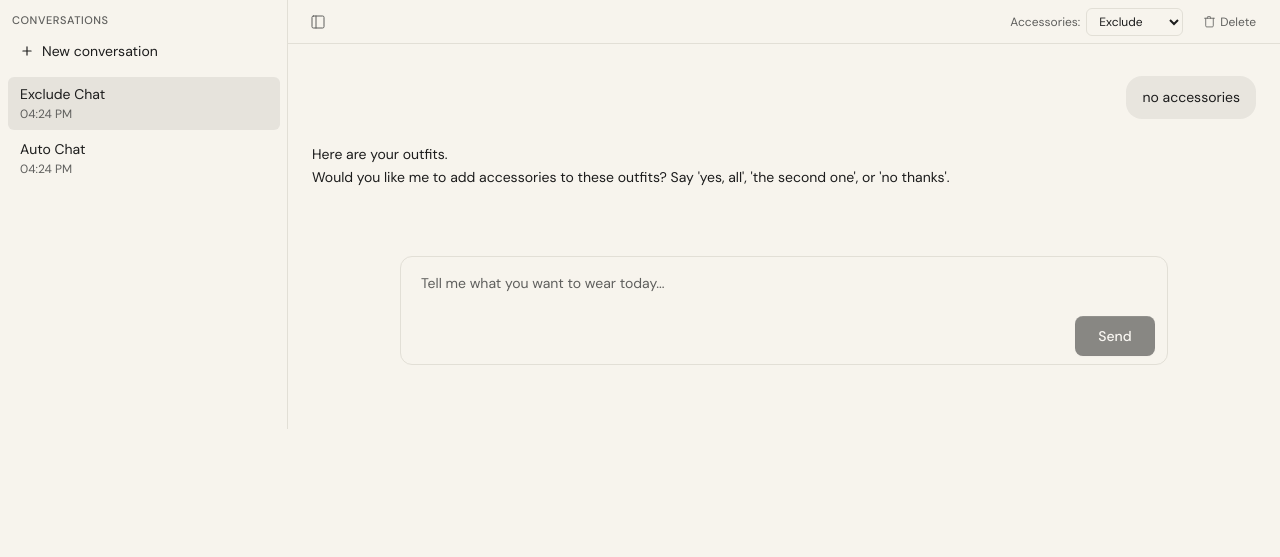
Test case: ChatPage › conversational accessory mode switching UI (#259) › clears add-back offer and resets dropdown when switching away from a conversation with pending offer
The width and height of the screenshot is (1280, 557).
expect the text "Would you like me to add accessories" is shown: met, box [312,145,949,186]
expect the dropdown labelled "Accessories:" shows "Exclude": met, box [1086,8,1183,36]
Click the text "Auto Chat" at (53, 149), box [20,140,86,158]
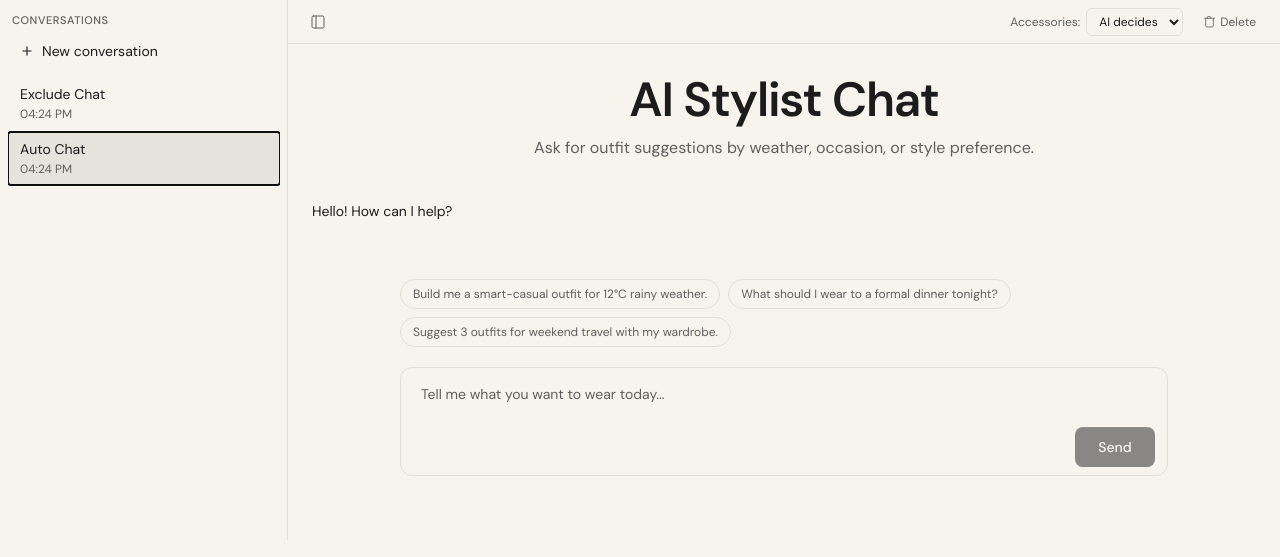
expect the text "Would you like me to add accessories" is gone: met
expect the dropdown labelled "Accessories:" shows "AI decides": met, box [1086,8,1183,36]
expect the text "Hello! How can I help?" is shown: met, box [312,202,452,220]
